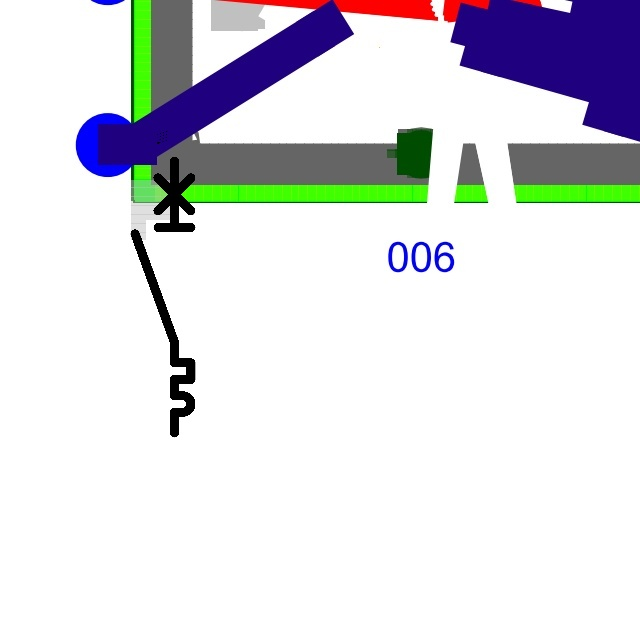interruptor_termomagnetico: (128, 154, 198, 440)
